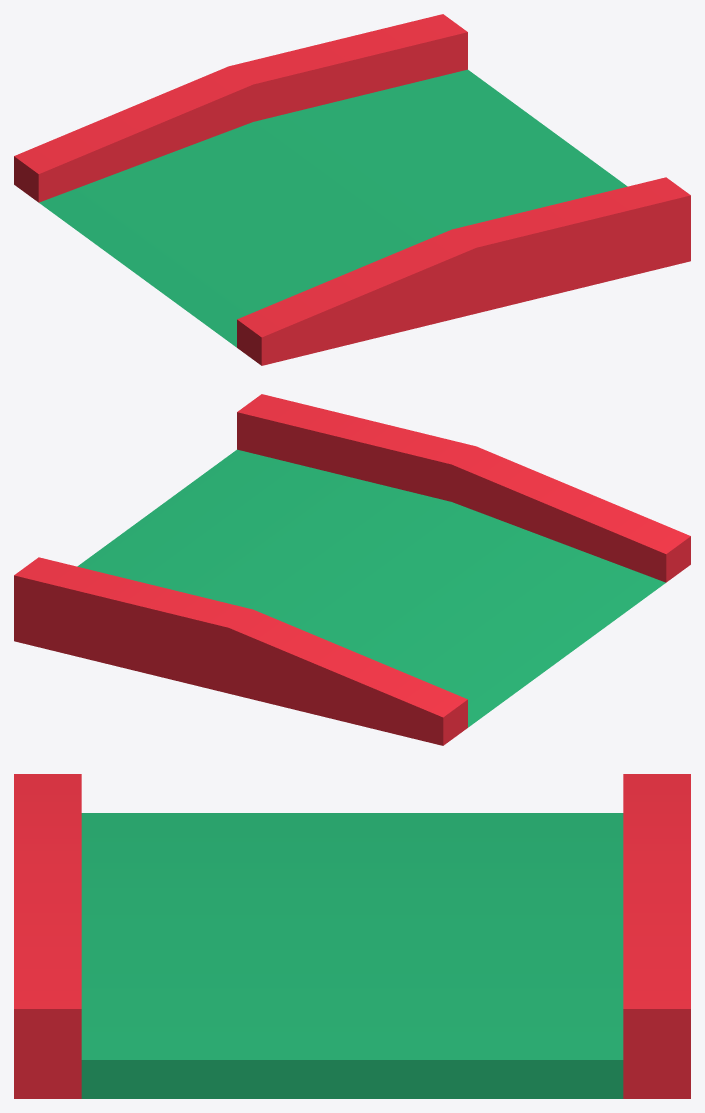
File: start.dae
The picture shows the model from 3 angles, top to bottom: view 1: azimuth 30°, elevation 25°; view 2: azimuth 150°, elevation 25°; view 3: azimuth 270°, elevation 25°; orthographic projection. The views are drawn at different scales.
Parts seen in each view (by area): view 1: start; view 2: start; view 3: start.
Boxes of the visible parts, <box> form: start: <box>14,14,690,365</box>; start: <box>14,394,690,745</box>; start: <box>14,774,690,1098</box>.
Bounding box in the file's own units: 0.9999 × 0.1467 × 0.9999.
